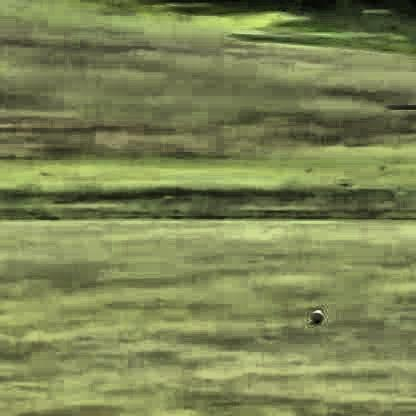golfball: (309, 304, 319, 320)
